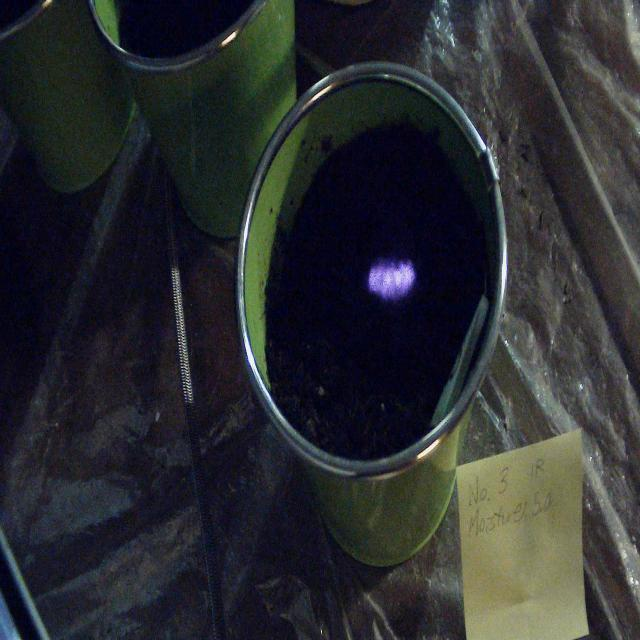soil-moisture-5.0: (367, 259, 416, 300)
